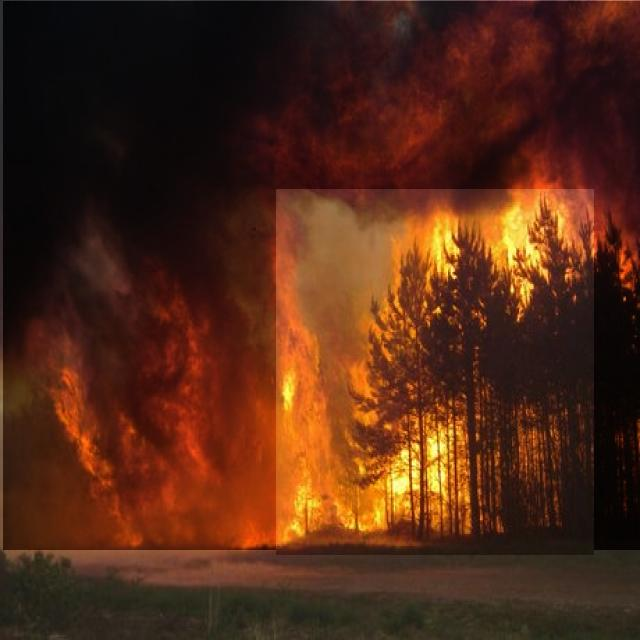Fire: (276, 189, 594, 555)
Smoke: (3, 1, 640, 550)
